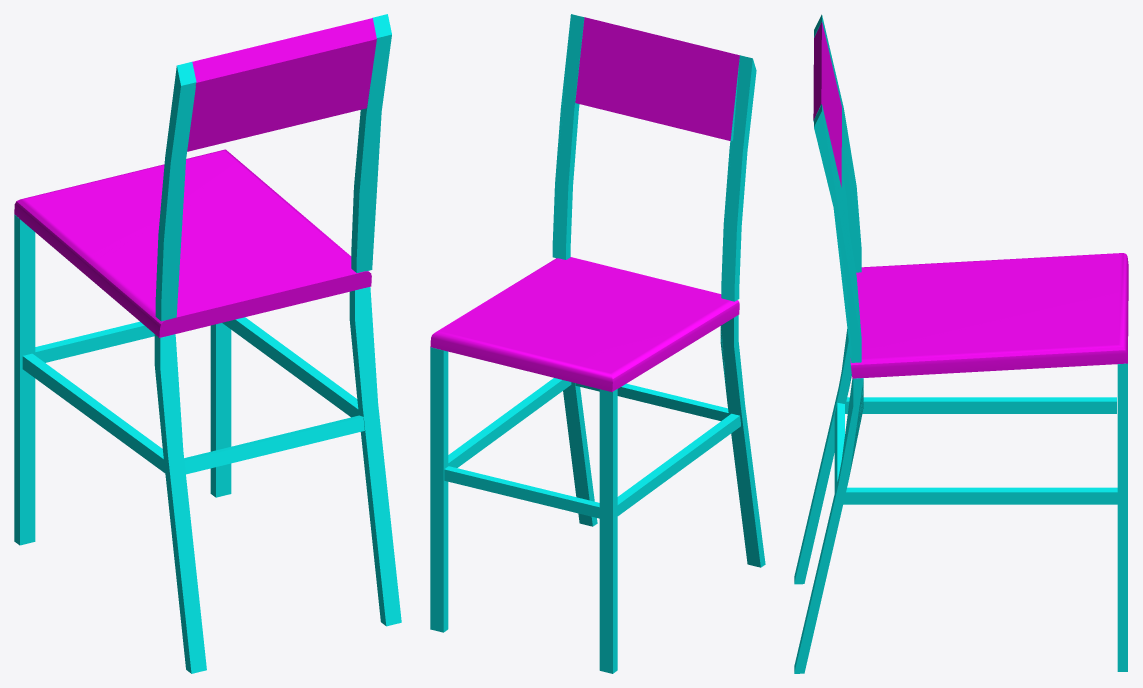
The model's file is SurfacePaintingHammer.obj.
3 views of the same model, side by side, from view 1: azimuth 30°, elevation 25°; view 2: azimuth 150°, elevation 25°; view 3: azimuth 270°, elevation 25° (orthographic). The views are drawn at different scales.
Visible parts, largest first — view 1: Seat1; view 2: Seat1; view 3: Seat1.
Part boxes in pixels (x1,y1,x2,y2): Seat1: [14, 14, 401, 673]; Seat1: [430, 14, 765, 673]; Seat1: [794, 14, 1128, 673].
Size of the model in its own units: 4.11 by 11.04 by 5.94.
